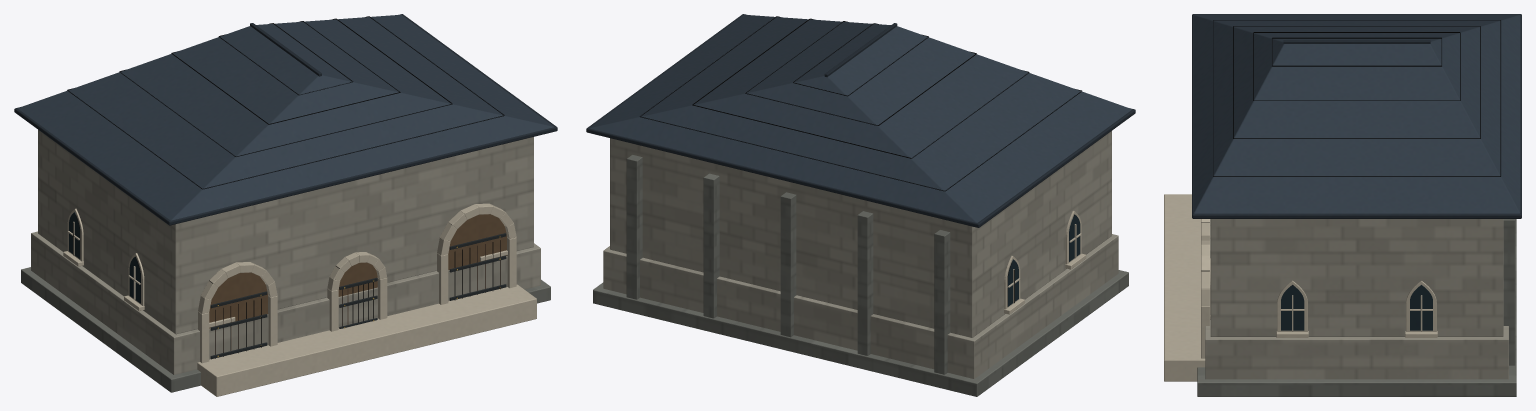
Rendered from Warehouse.fbx.
3 renders of one model, left to right at view 1: azimuth 30°, elevation 25°; view 2: azimuth 150°, elevation 25°; view 3: azimuth 270°, elevation 25°, orthographic. The views are drawn at different scales.
Parts seen in each view (by area): view 1: Warehouse.001; view 2: Warehouse.001; view 3: Warehouse.001.
Boxes of the visible parts, left/top/right/bottom form: Warehouse.001: left=14, top=14, right=557, bottom=396; Warehouse.001: left=586, top=14, right=1135, bottom=396; Warehouse.001: left=1164, top=14, right=1521, bottom=396.
Size of the model in its own units: 14.31 by 8.56 by 10.76.
